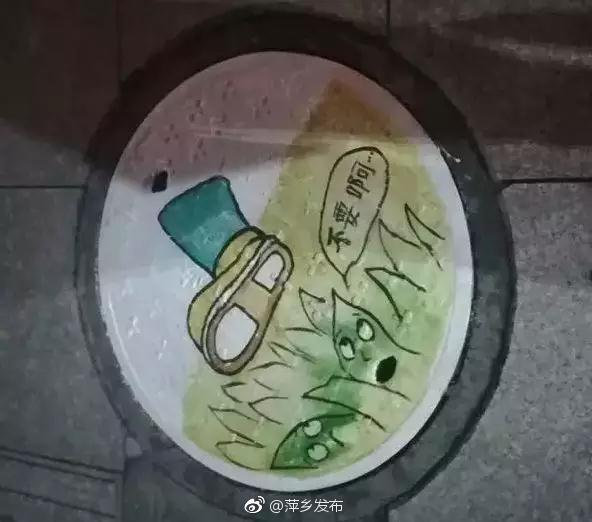wellcover: (50, 28, 508, 511)
